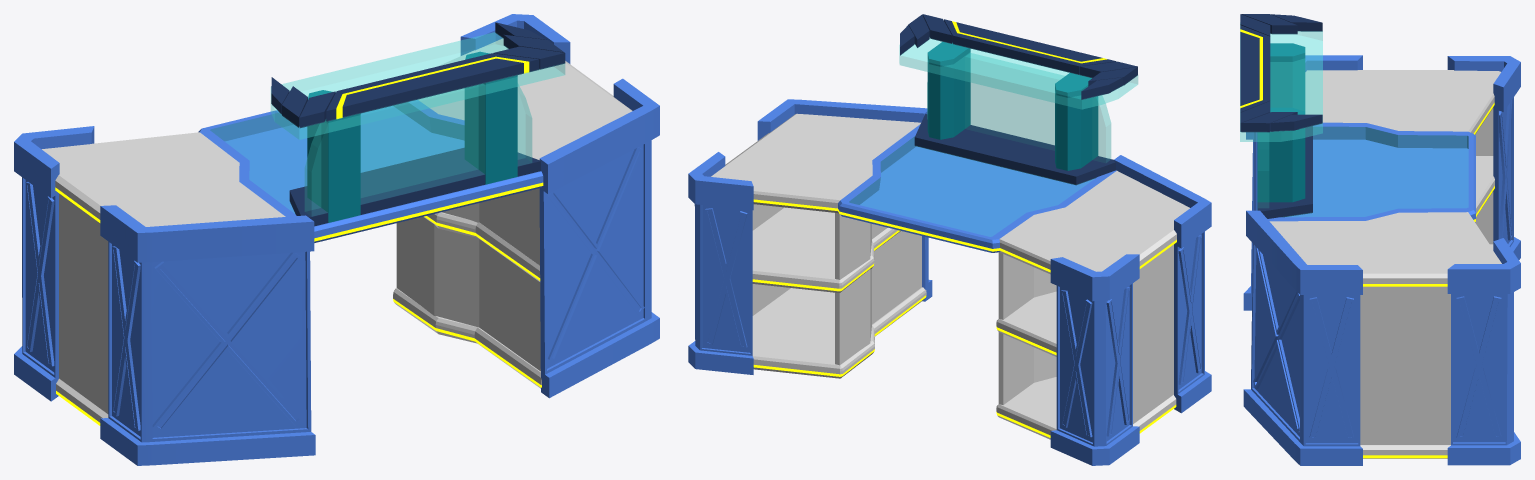
Rendered from table_tier21.fbx.
The picture shows the model from 3 angles, left to right: view 1: azimuth 30°, elevation 25°; view 2: azimuth 150°, elevation 25°; view 3: azimuth 270°, elevation 25°; orthographic projection. The views are drawn at different scales.
Visible parts, largest first — view 1: Cube.014, Cube.005, Cube.010, Cube.002, Cube.015, Cube.001, Cube.006, Cube.008, Cube.016, Cube.004, Cube.003, Cube.007 (+5 smaller); view 2: Cube.005, Cube.015, Cube.014, Cube.010, Cube.002, Cube.007, Cube.012, Cube.006, Cube.001, Cube.008, Cube.011, Cube.003 (+7 smaller); view 3: Cube.005, Cube.014, Cube.015, Cube, Cube.006, Cube.003, Cube.016, Cube.004, Cube.008, Cube.001, Cube.007, Cube.013 (+7 smaller).
Boxes of the visible parts, x1,y1,x2,y2 form: Cube.014: (100, 78, 659, 465); Cube.005: (42, 38, 632, 242); Cube.010: (396, 188, 540, 371); Cube.002: (305, 84, 531, 216); Cube.015: (14, 14, 570, 401); Cube.001: (59, 193, 108, 413); Cube.006: (271, 32, 564, 139); Cube.008: (289, 148, 540, 226); Cube.016: (326, 53, 538, 121); Cube.004: (307, 90, 360, 222); Cube.003: (464, 51, 517, 184); Cube.007: (393, 288, 541, 388); Cube.005: (711, 113, 1189, 274); Cube.015: (688, 152, 1139, 465); Cube.014: (757, 99, 1211, 413); Cube.010: (835, 213, 921, 365); Cube.002: (927, 53, 1110, 162); Cube.007: (752, 287, 926, 378); Cube.012: (752, 207, 900, 292); Cube.006: (899, 38, 1137, 109); Cube.001: (1133, 244, 1173, 423); Cube.008: (914, 114, 1115, 185); Cube.011: (998, 252, 1056, 404); Cube.003: (927, 42, 970, 139); Cube.005: (1254, 70, 1501, 287); Cube.014: (1243, 55, 1362, 465); Cube.015: (1447, 56, 1520, 465); Cube: (1360, 287, 1450, 444); Cube.006: (1240, 31, 1322, 141); Cube.003: (1257, 107, 1305, 210); Cube.016: (1240, 25, 1270, 112); Cube.004: (1270, 43, 1305, 111); Cube.008: (1257, 126, 1312, 218); Cube.001: (1475, 108, 1493, 244); Cube.007: (1360, 445, 1450, 458); Cube.013: (1476, 156, 1494, 216).
Bounding box in the file's own units: 232 × 146 × 128.
